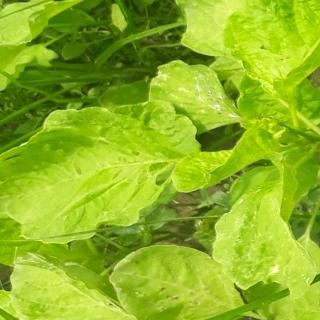karat_putih: (9, 243, 127, 320), (148, 60, 240, 126)
virus_keriting: (206, 161, 320, 302), (41, 100, 202, 168), (221, 0, 320, 102)
